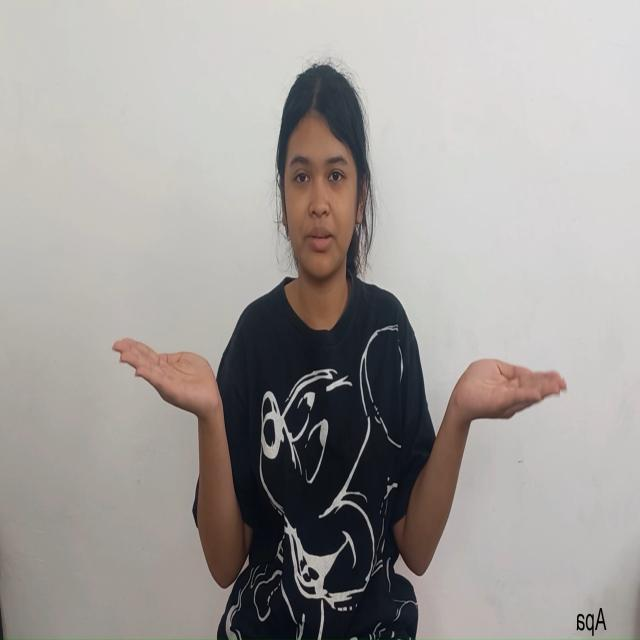Apa -BISINDO-: (109, 311, 577, 588)
